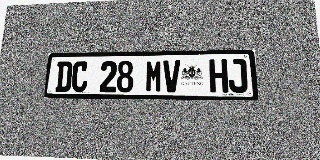2: (99, 61, 117, 92)
8: (116, 60, 134, 92)
C: (71, 61, 89, 92)
D: (55, 61, 73, 92)
H: (209, 59, 228, 93)
J: (228, 59, 248, 93)
M: (145, 60, 163, 92)
V: (163, 60, 180, 92)
